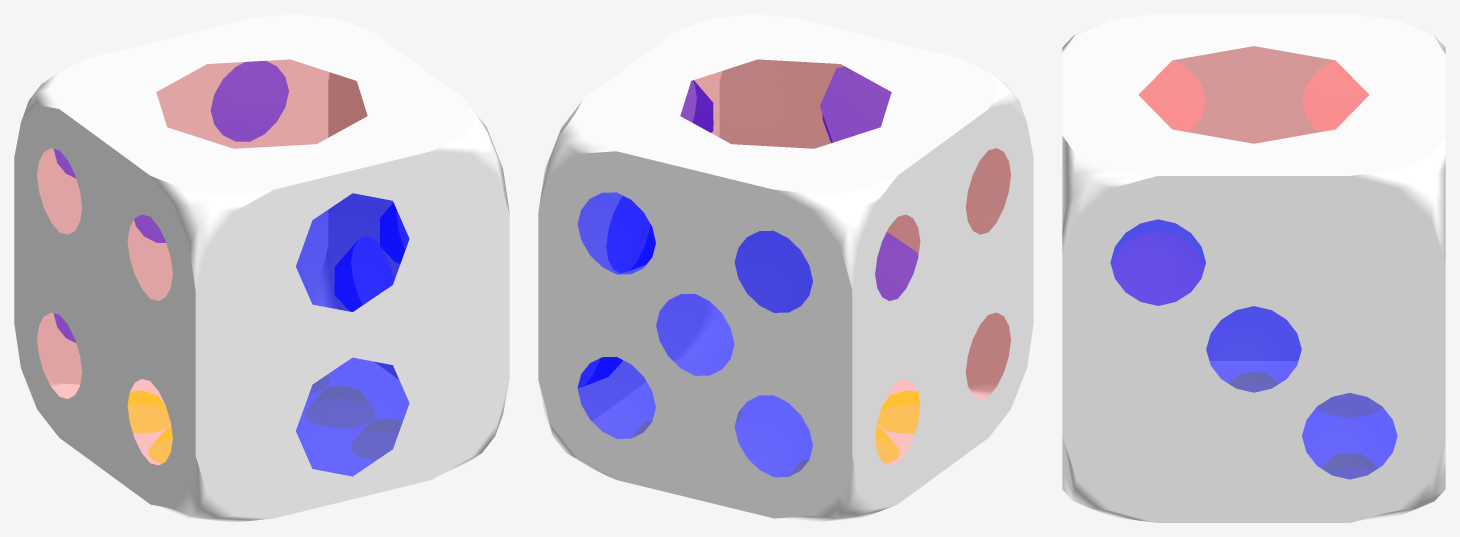
The model's file is WahahaDice.glb.
3 renders of one model, left to right at view 1: azimuth 30°, elevation 25°; view 2: azimuth 150°, elevation 25°; view 3: azimuth 270°, elevation 25°, orthographic. The views are drawn at different scales.
Parts seen in each view (by area): view 1: WahahaDice; view 2: WahahaDice; view 3: WahahaDice.
Boxes of the visible parts, bbox=[...] form: WahahaDice: bbox=[14, 14, 509, 522]; WahahaDice: bbox=[538, 14, 1033, 522]; WahahaDice: bbox=[1062, 14, 1445, 522].
Bounding box in the file's own units: 2 × 2 × 2.
